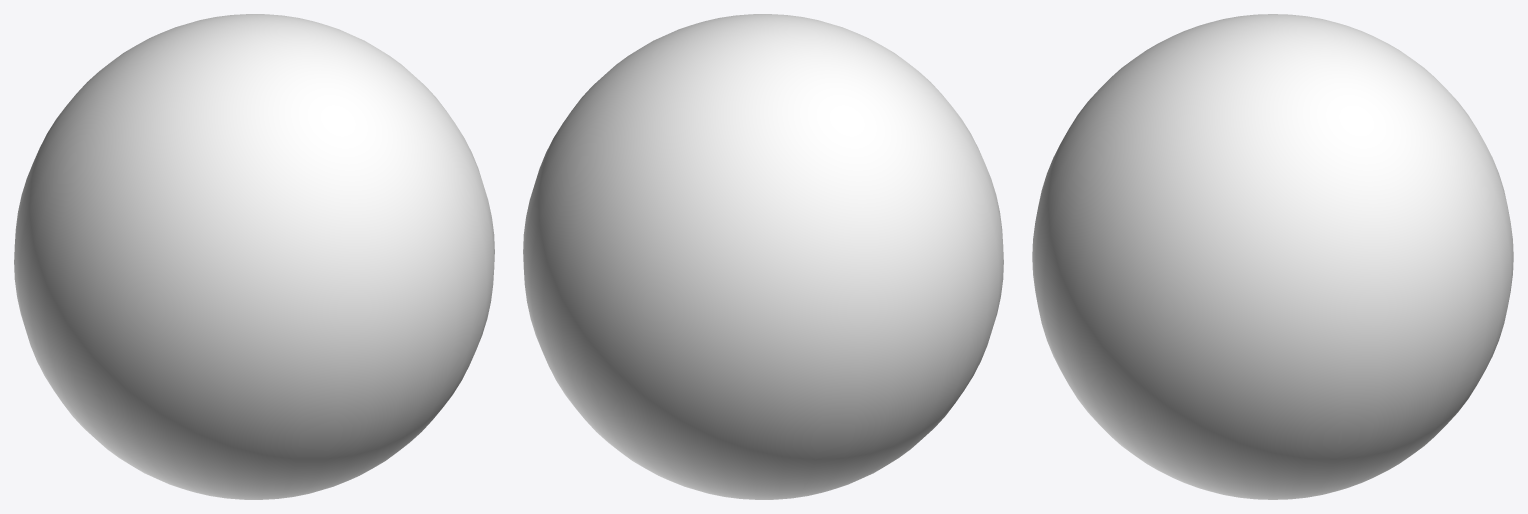
The model's file is EnvBall.fbx.
3 views of the same model, side by side, from view 1: azimuth 30°, elevation 25°; view 2: azimuth 150°, elevation 25°; view 3: azimuth 270°, elevation 25° (orthographic).
Visible parts, largest first — view 1: pSphere1; view 2: pSphere1; view 3: pSphere1.
Boxes of the visible parts, left/top/right/bottom form: pSphere1: left=14, top=14, right=494, bottom=499; pSphere1: left=523, top=14, right=1003, bottom=499; pSphere1: left=1032, top=14, right=1513, bottom=499.
Size of the model in its own units: 2.95 by 3 by 2.95.
Materials: 1 (1 with a texture image).
